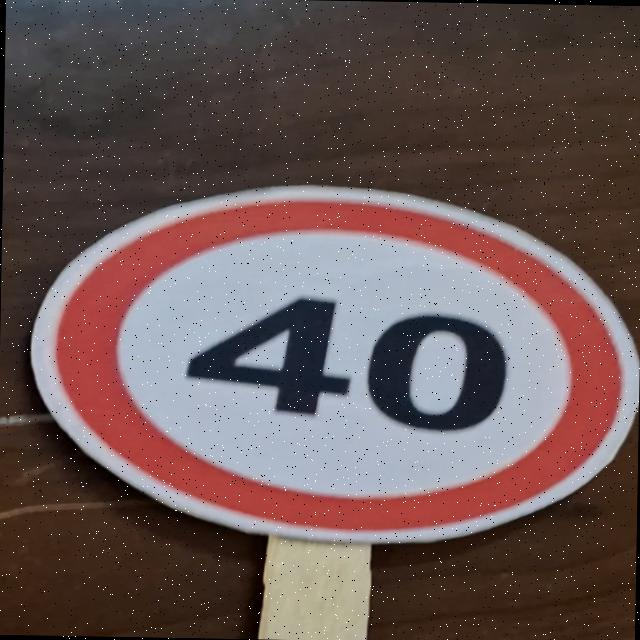Speed40: (23, 169, 640, 549)
